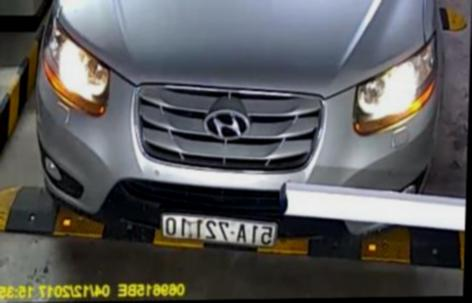License_Plate: (153, 209, 277, 252)
